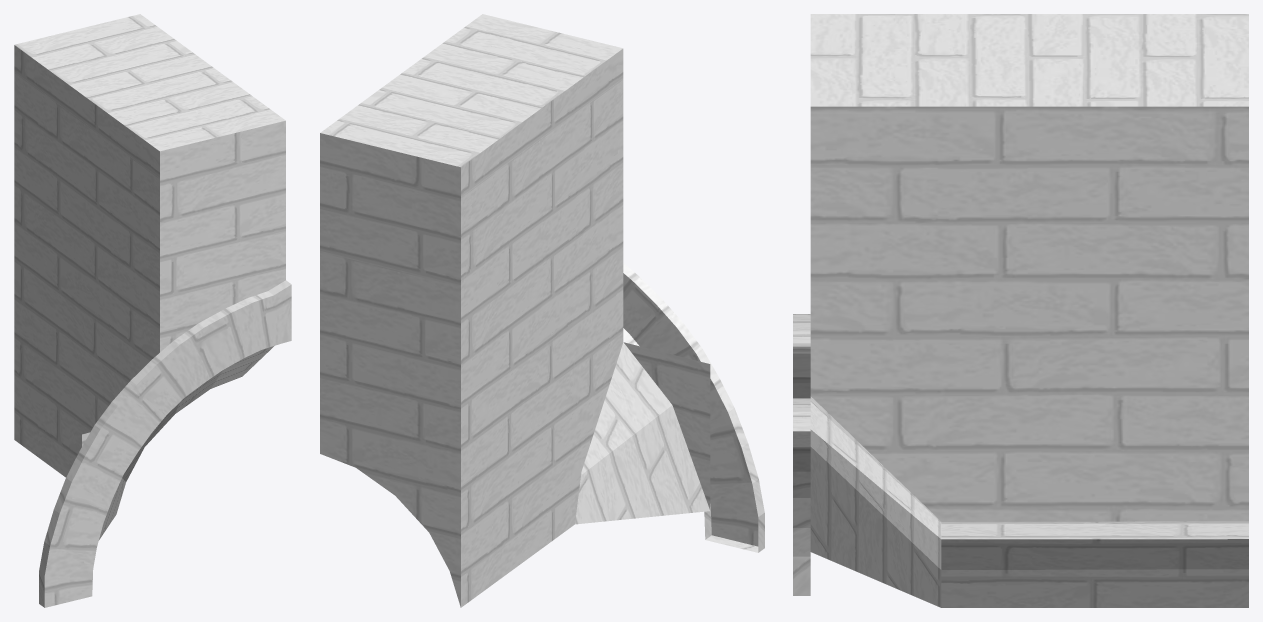
The model's file is castle_type_q.gltf.
The picture shows the model from 3 angles, left to right: view 1: azimuth 30°, elevation 25°; view 2: azimuth 150°, elevation 25°; view 3: azimuth 270°, elevation 25°; orthographic projection. The views are drawn at different scales.
Parts seen in each view (by area): view 1: Type_Q; view 2: Type_Q; view 3: Type_Q.
Boxes of the visible parts, <box> form: Type_Q: <box>14,14,291,607</box>; Type_Q: <box>320,14,764,607</box>; Type_Q: <box>793,14,1248,607</box>.
Size of the model in its own units: 0.9795 by 1.6 by 1.04.
1 material, 1 textured.
